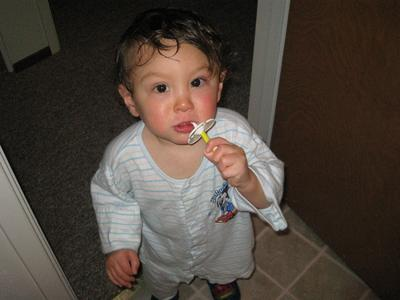person: (89, 14, 289, 300)
